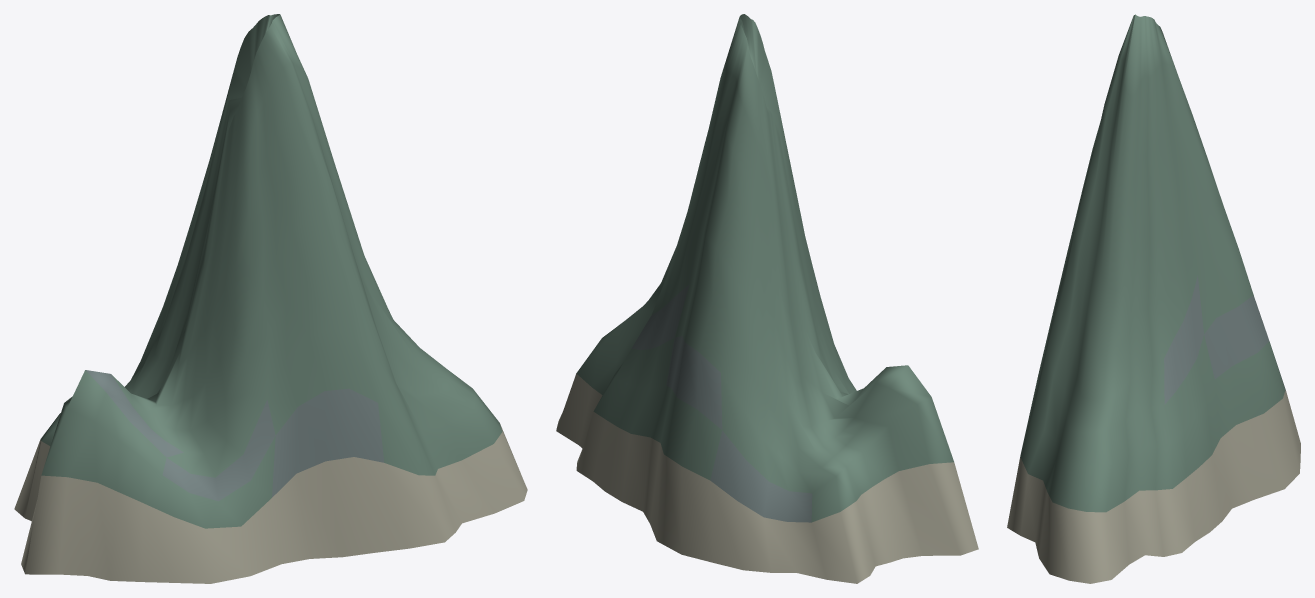
The model's file is cape.glb.
3 renders of one model, left to right at view 1: azimuth 30°, elevation 25°; view 2: azimuth 150°, elevation 25°; view 3: azimuth 270°, elevation 25°, orthographic. The views are drawn at different scales.
Size of the model in its own units: 1.13 by 1.15 by 0.6521.
